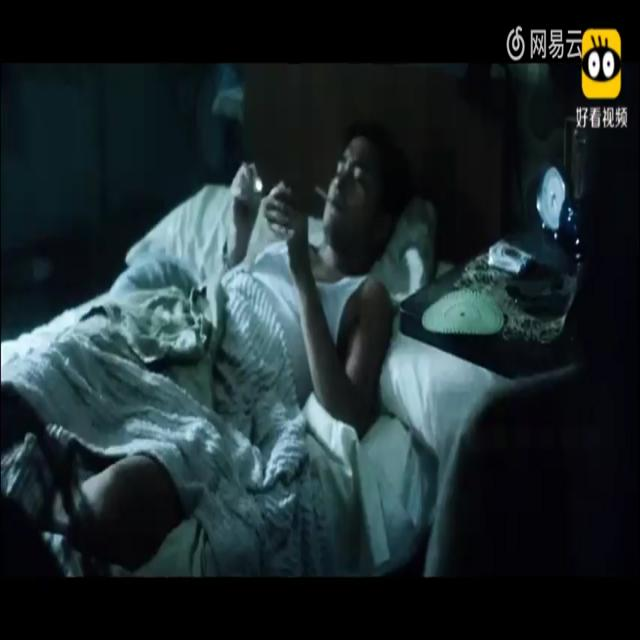cigarette: (313, 184, 335, 212)
